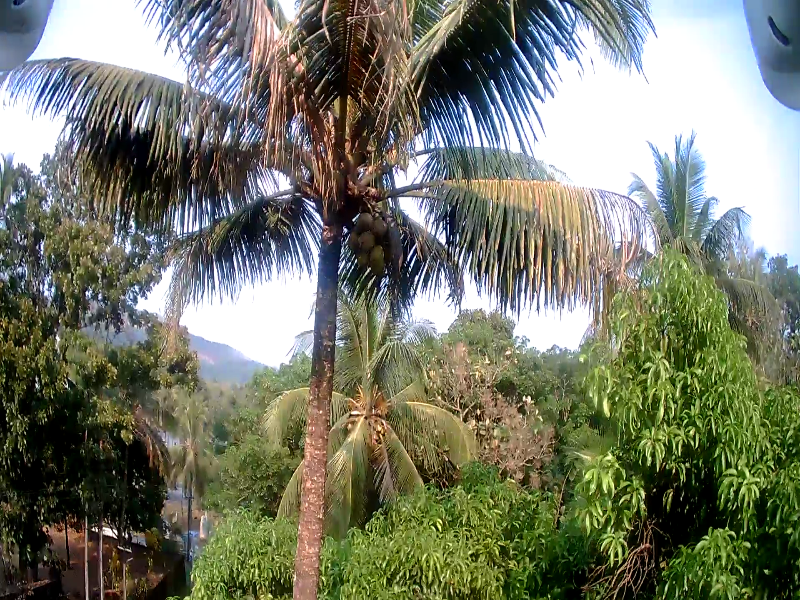coconut: (382, 143, 395, 173), (355, 209, 369, 226), (367, 247, 381, 262), (371, 217, 383, 232), (353, 234, 368, 244), (355, 249, 362, 264)
